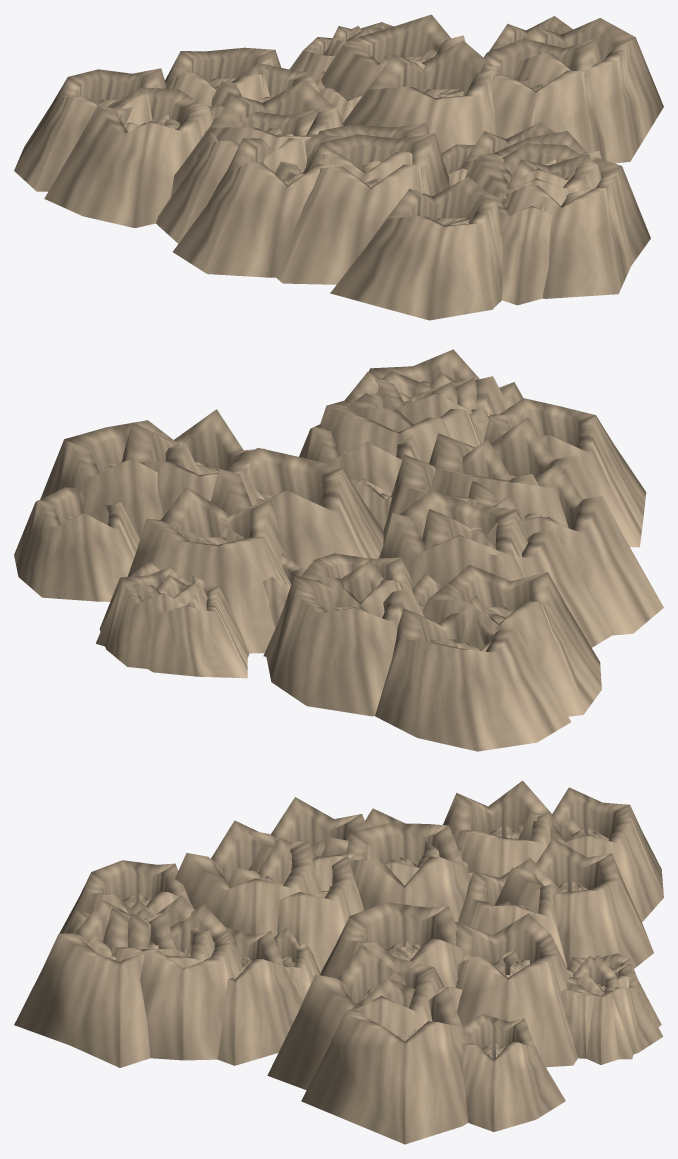
Rendered from barnacles-60.glb.
3 renders of one model, top to bottom at view 1: azimuth 30°, elevation 25°; view 2: azimuth 150°, elevation 25°; view 3: azimuth 270°, elevation 25°, orthographic. The views are drawn at different scales.
Visible parts, largest first — view 1: LOD0; view 2: LOD0; view 3: LOD0.
Boxes of the visible parts, box(x1,y1,x2,y2) form: LOD0: box(14, 14, 663, 320); LOD0: box(14, 349, 663, 751); LOD0: box(14, 780, 663, 1144).
Size of what is drawn, in the model's own units: 0.364 by 0.0625 by 0.3388.
1 material, 1 textured.
